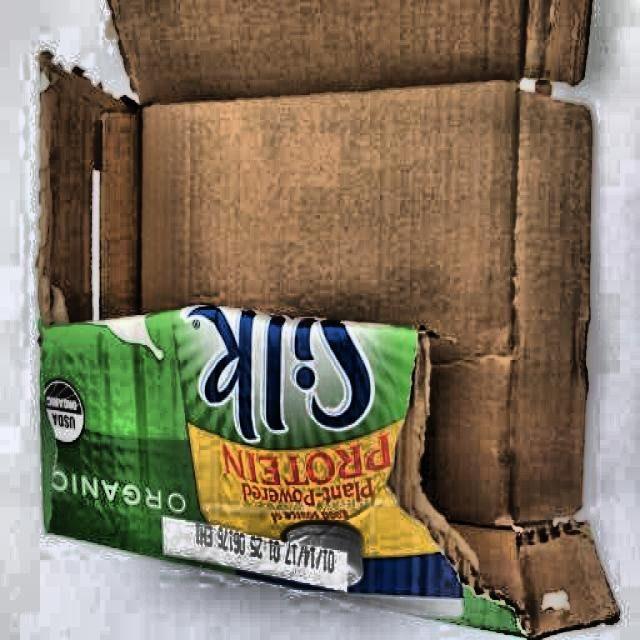cardboard: (24, 6, 618, 638)
